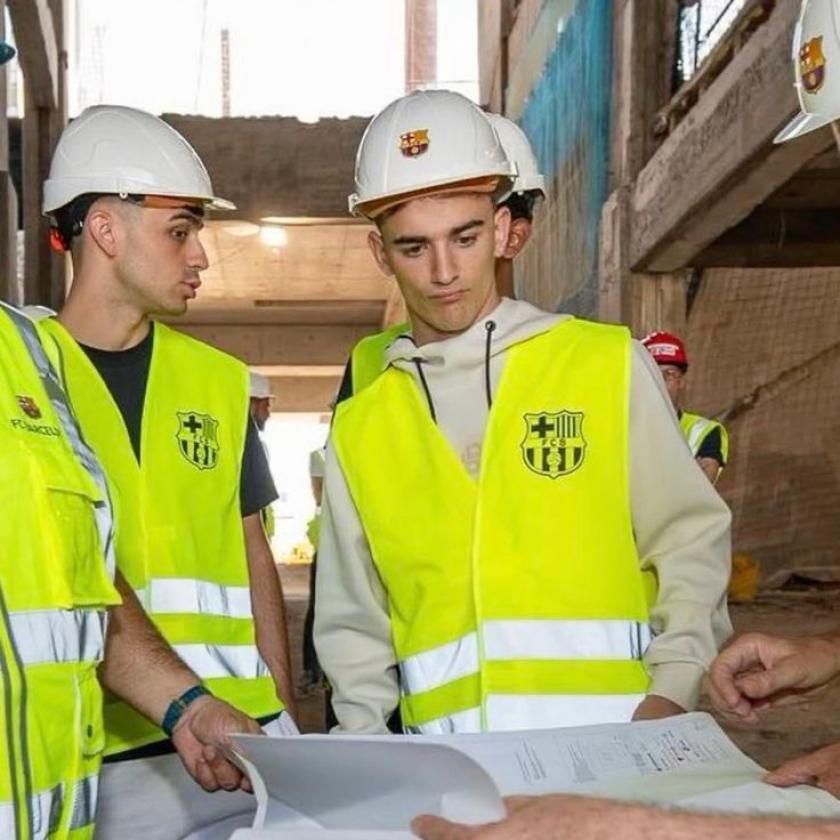Con_casco: (350, 81, 517, 359), (46, 105, 240, 340)
